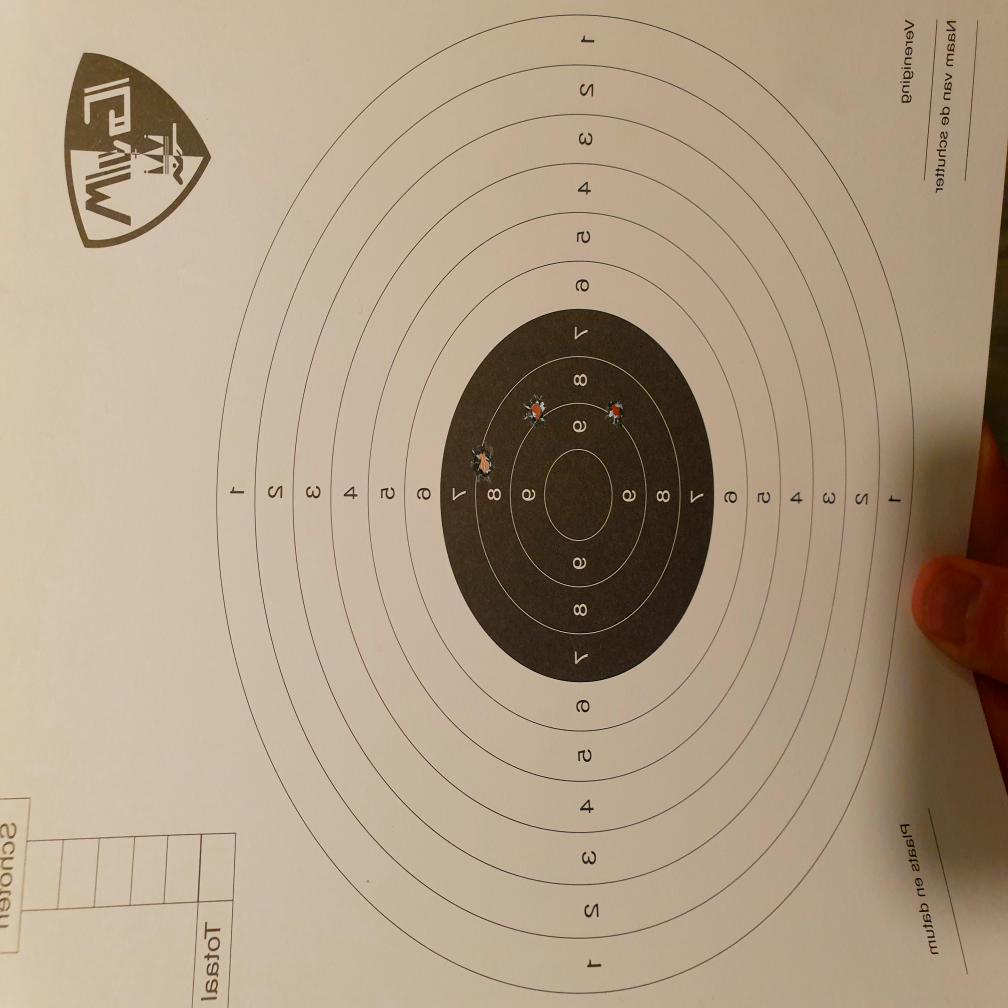8: (470, 445, 494, 483)
9: (524, 394, 548, 428), (604, 399, 624, 428)
Target: (216, 12, 914, 998)
black_contour: (442, 310, 713, 684)
